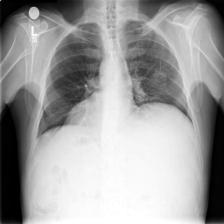normal: (33, 18, 196, 142)
